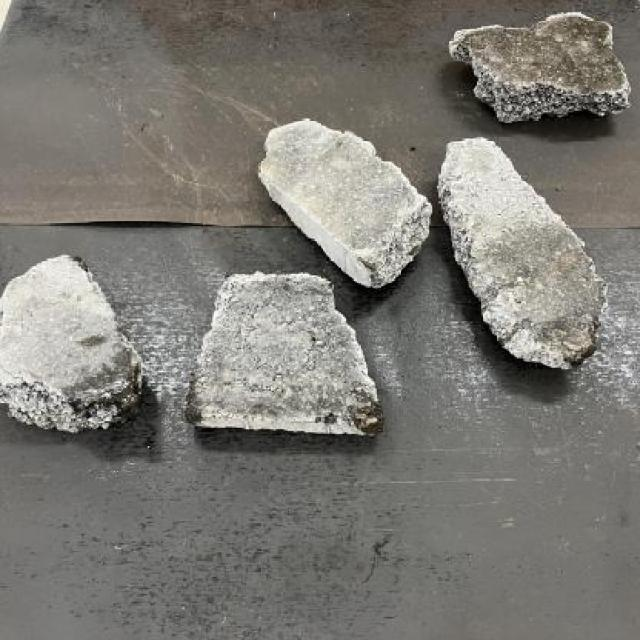Road Debris: (192, 272, 366, 420), (259, 116, 418, 261), (466, 6, 632, 106), (478, 234, 604, 358), (22, 322, 136, 396)
